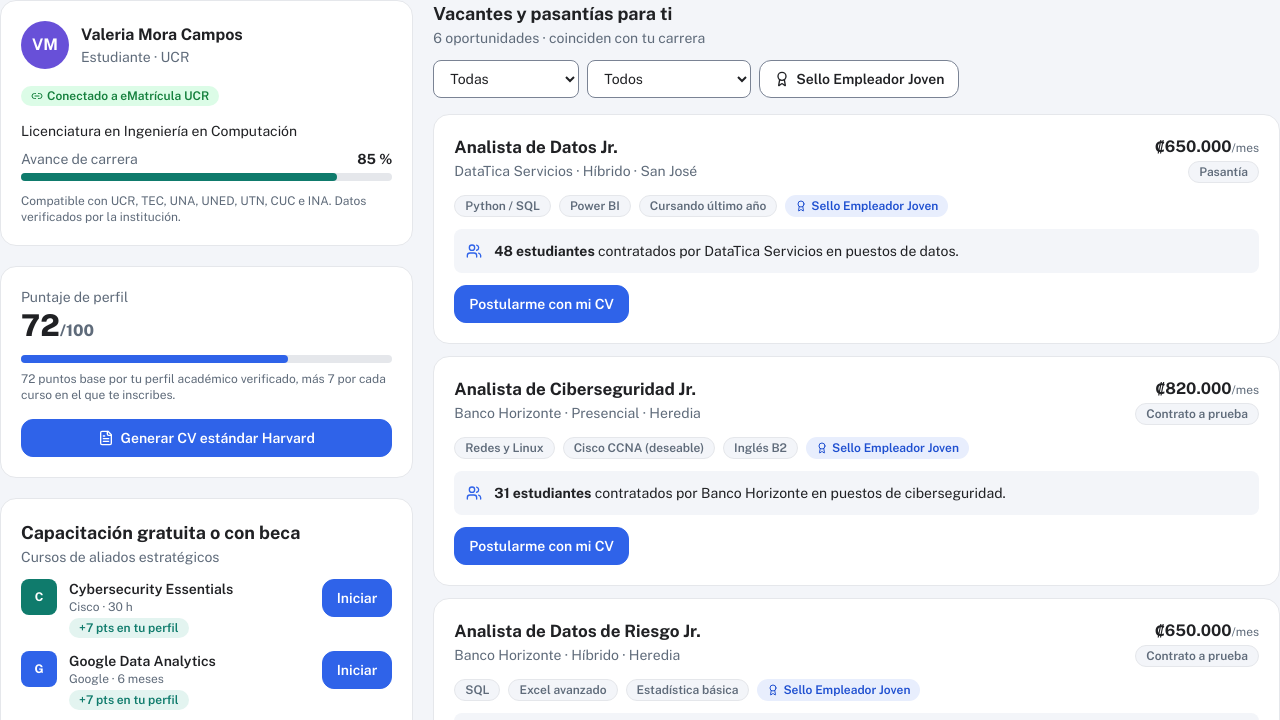
Test case: StudentView › los filtros se encuentran por su nombre
Expected: the 2nd dropdown named "Tipo de contrato" is shown, left=587, top=60, right=751, bottom=98
Select "Desarrollo" in the 1st dropdown named "Área": (506, 79) left=433, top=60, right=579, bottom=98
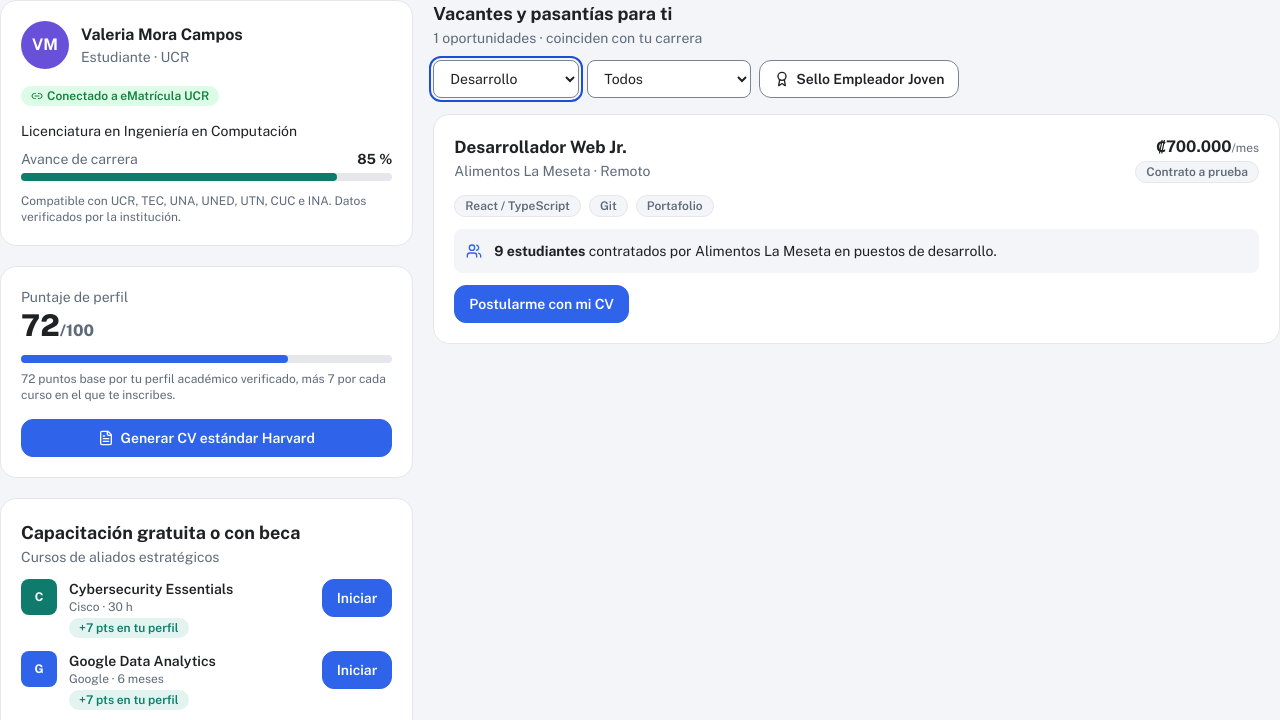
Click the button "Sello Empleador Joven": (859, 79) left=759, top=60, right=960, bottom=98
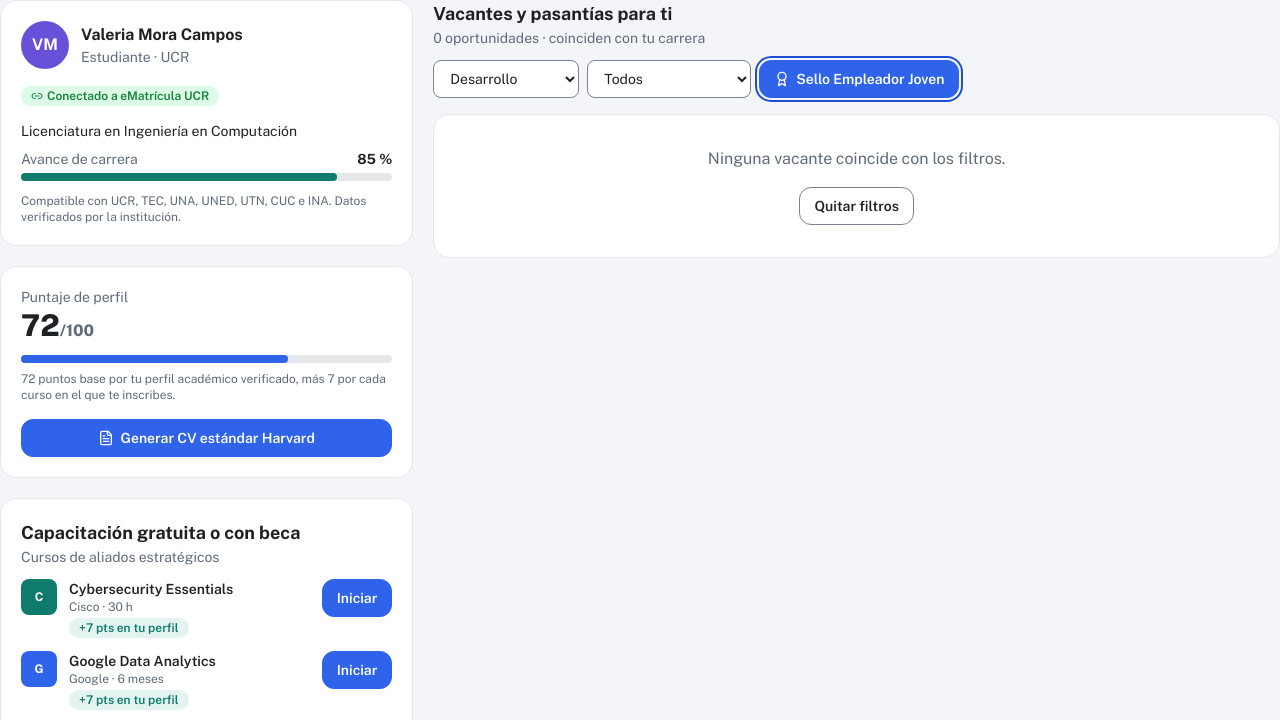
Expected: the message shows "Ninguna vacante coincide", left=708, top=149, right=1006, bottom=168
Click the button "Quitar filtros": (857, 206) left=799, top=187, right=914, bottom=225
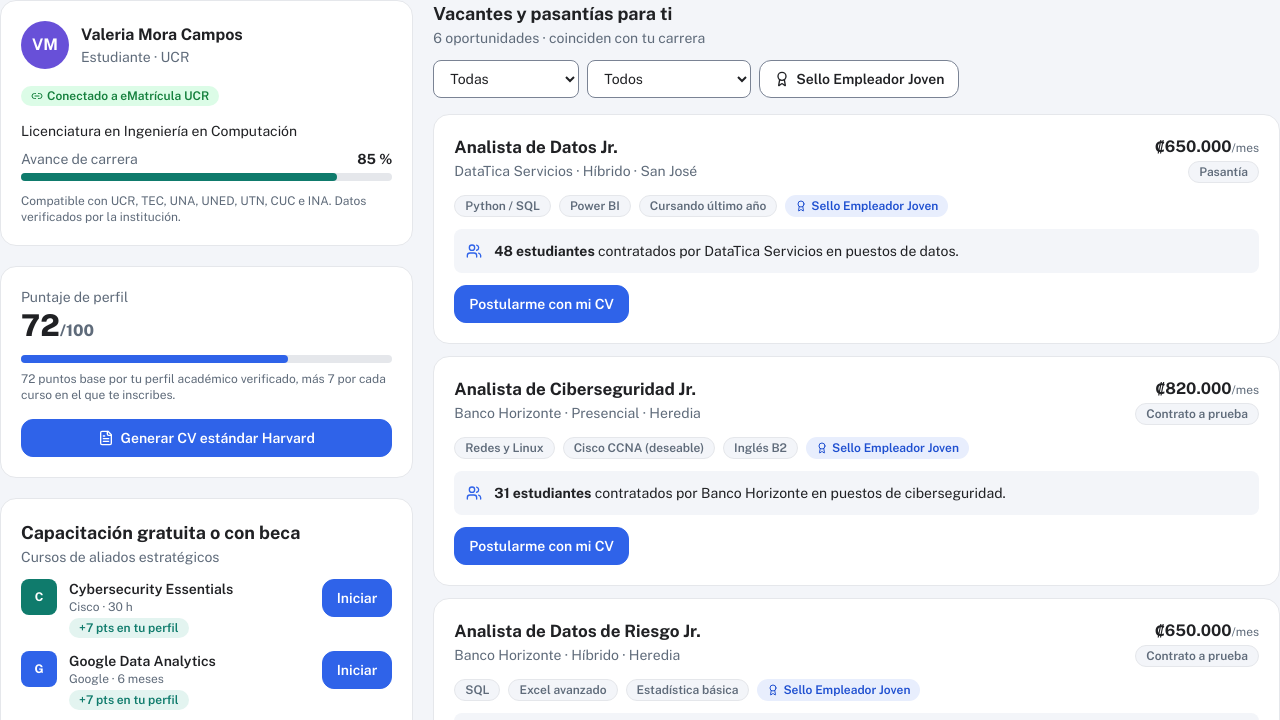
Expected: the message "Ninguna vacante coincide con los filtros. Quitar filtros" is gone
